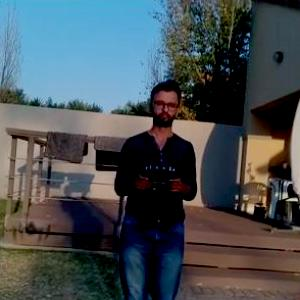follow: (105, 74, 199, 299)
